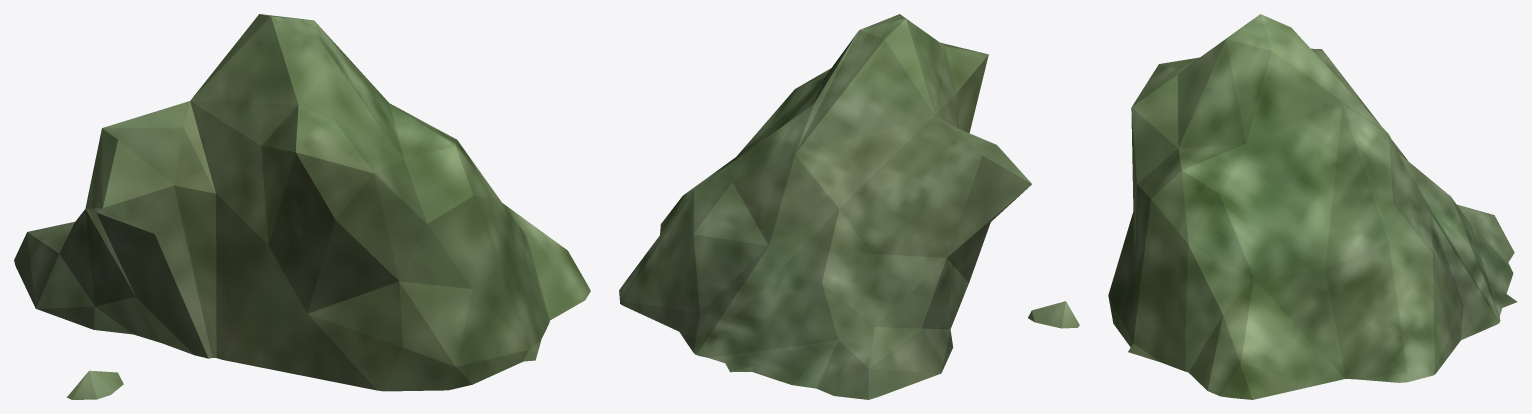
3 views of the same model, side by side, from view 1: azimuth 30°, elevation 25°; view 2: azimuth 150°, elevation 25°; view 3: azimuth 270°, elevation 25° (orthographic). The views are drawn at different scales.
Bounding box in the file's own units: 1.62 × 0.9982 × 1.39.
1 material, 1 textured.
